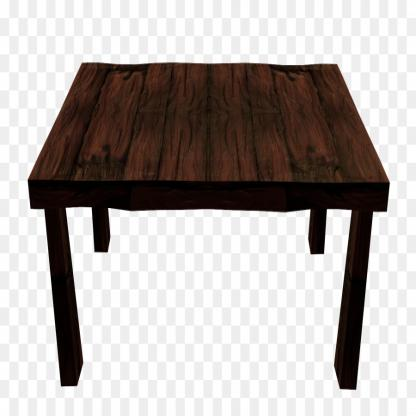table: (29, 62, 389, 387)
